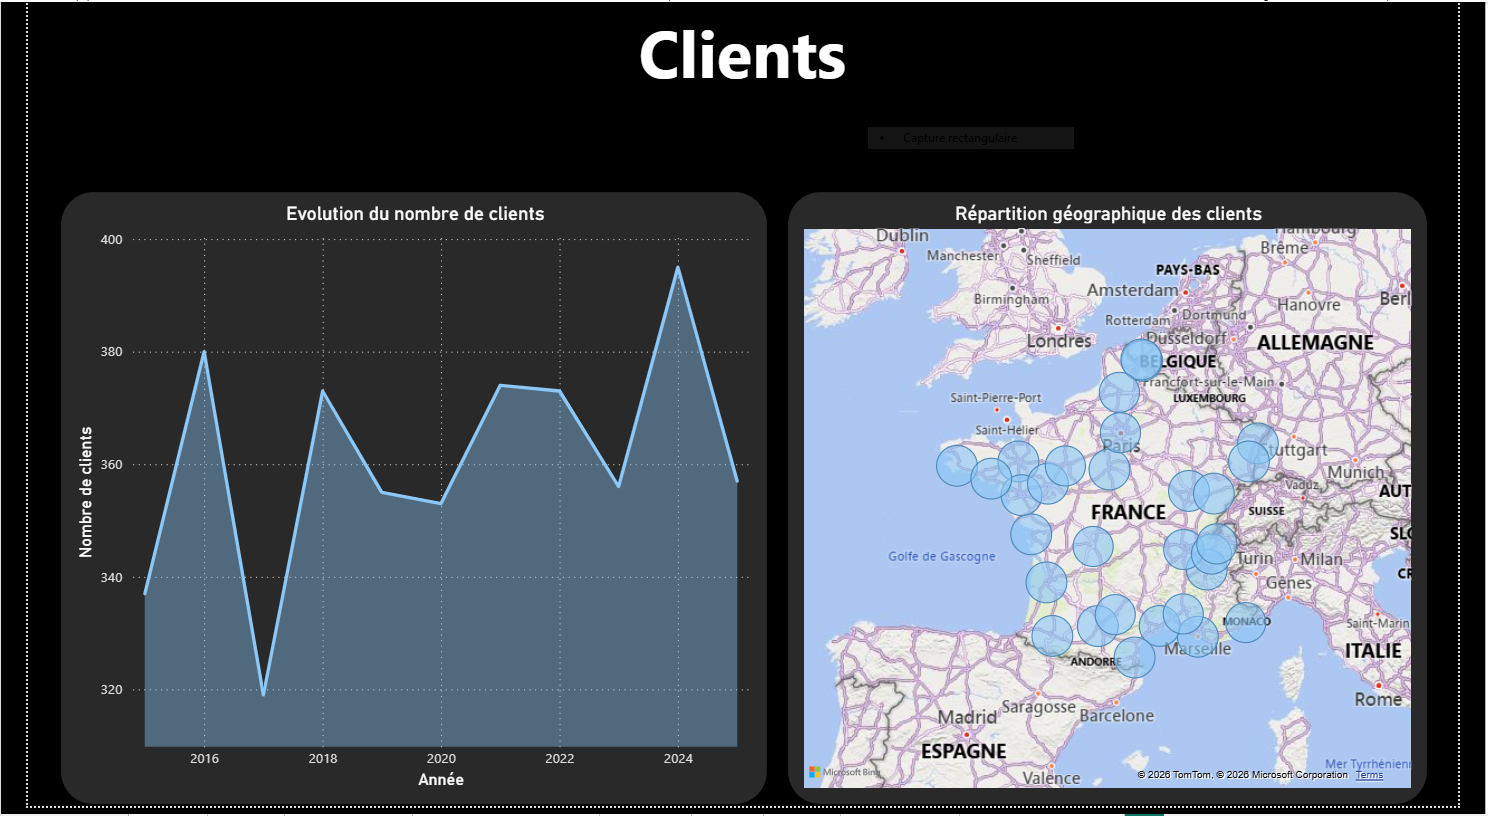

The page's visual inventory and layout, read from the dashboard file:
{"tool":"powerbi","page":{"name":"Clients","canvas":[1280,720],"ordinal":1},"visuals":[{"type":"areaChart","title":"Evolution du nombre de clients","fields":{"Category":["SAE_COMMANDEBOUQUET.DATECOMMANDE.Variation.Hiérarchie de dates.Année","SAE_COMMANDEBOUQUET.DATECOMMANDE.Variation.Hiérarchie de dates.Trimestre","SAE_COMMANDEBOUQUET.DATECOMMANDE.Variation.Hiérarchie de dates.Mois","SAE_COMMANDEBOUQUET.DATECOMMANDE.Variation.Hiérarchie de dates.Jour"],"Y":["Count(SAE_COMMANDEBOUQUET.NUMTELCLIENT)"]},"box":[28.8,169.6,634.5,549.7],"z":0},{"type":"map","title":"Répartition géographique des clients","fields":{"Category":["SAE_CLIENT.CODEPOSTAL"],"Size":["Count(SAE_CLIENT.NUMTELCLIENT)"]},"box":[679.9,169.6,573.9,549.7],"z":1000},{"type":"textbox","box":[0,0,1279.5,117.9],"z":2000}]}

Visuals, with their boxes in screenshot pixels (x1, y1, x2, y2), scaled from the page's 1280x720 canvas onto the 1488x816 screenshot:
"Evolution du nombre de clients" areaChart: (left=33, top=192, right=771, bottom=815)
"Répartition géographique des clients" map: (left=790, top=192, right=1458, bottom=815)
textbox: (left=0, top=0, right=1487, bottom=134)
